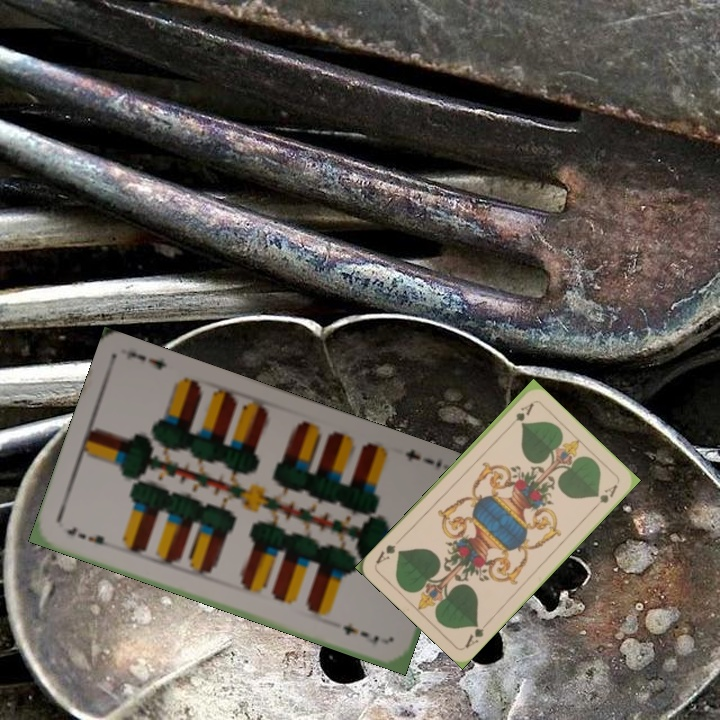E7: (62, 522, 116, 551), (401, 445, 445, 471)
GA: (504, 399, 537, 431), (461, 617, 492, 651)
